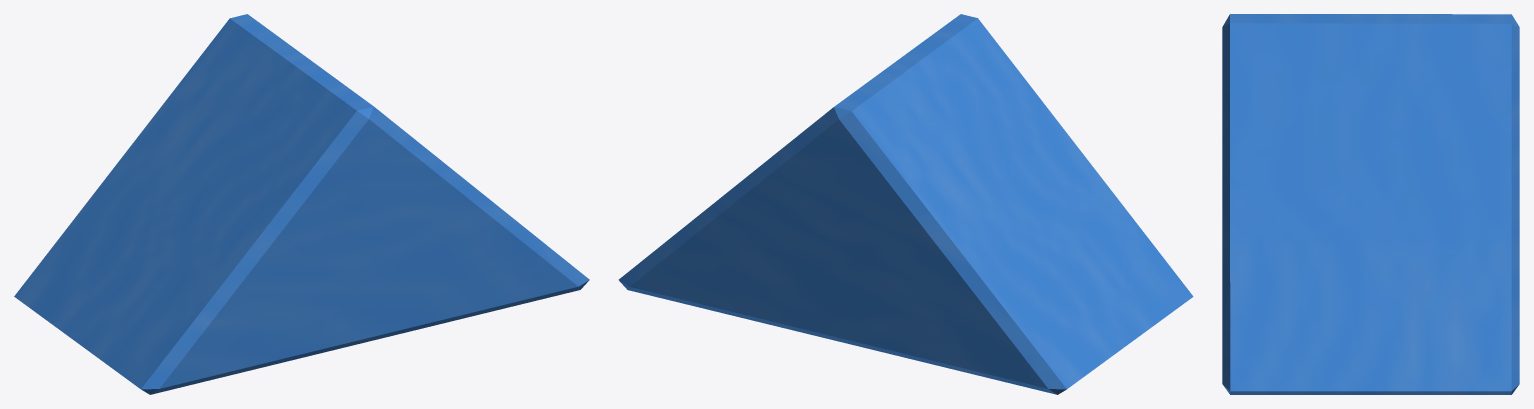
Rendered from LONG_TRONGLE.fbx.
The picture shows the model from 3 angles, left to right: view 1: azimuth 30°, elevation 25°; view 2: azimuth 150°, elevation 25°; view 3: azimuth 270°, elevation 25°; orthographic projection. The views are drawn at different scales.
Parts seen in each view (by area): view 1: LONG_TRONGLE; view 2: LONG_TRONGLE; view 3: LONG_TRONGLE.
Boxes of the visible parts, x1,y1,x2,y2 form: LONG_TRONGLE: [14, 14, 589, 394]; LONG_TRONGLE: [618, 14, 1193, 394]; LONG_TRONGLE: [1222, 14, 1519, 394].
Bounding box in the file's own units: 194 × 96.31 × 100.
